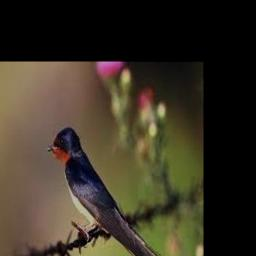Swallow: (47, 128, 173, 256)
